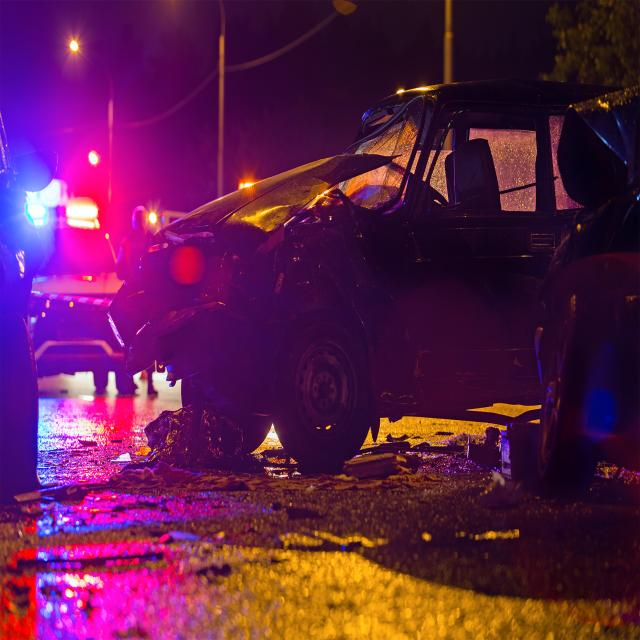Accident: (0, 71, 639, 505)
